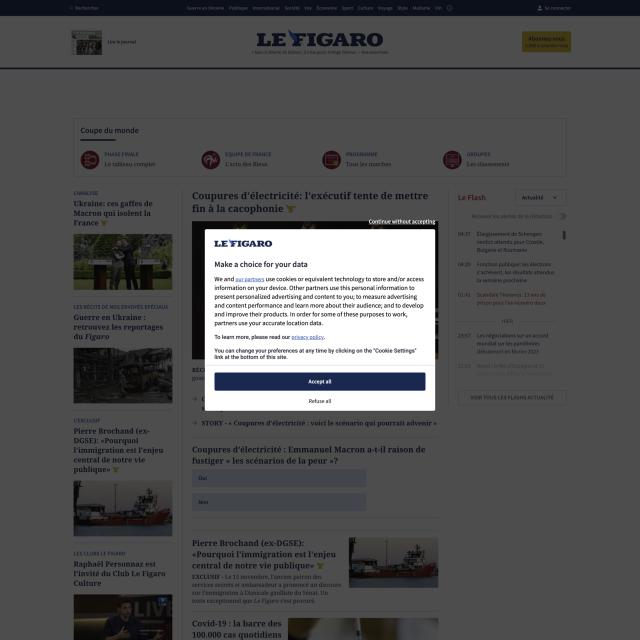logo: (214, 236, 274, 251)
